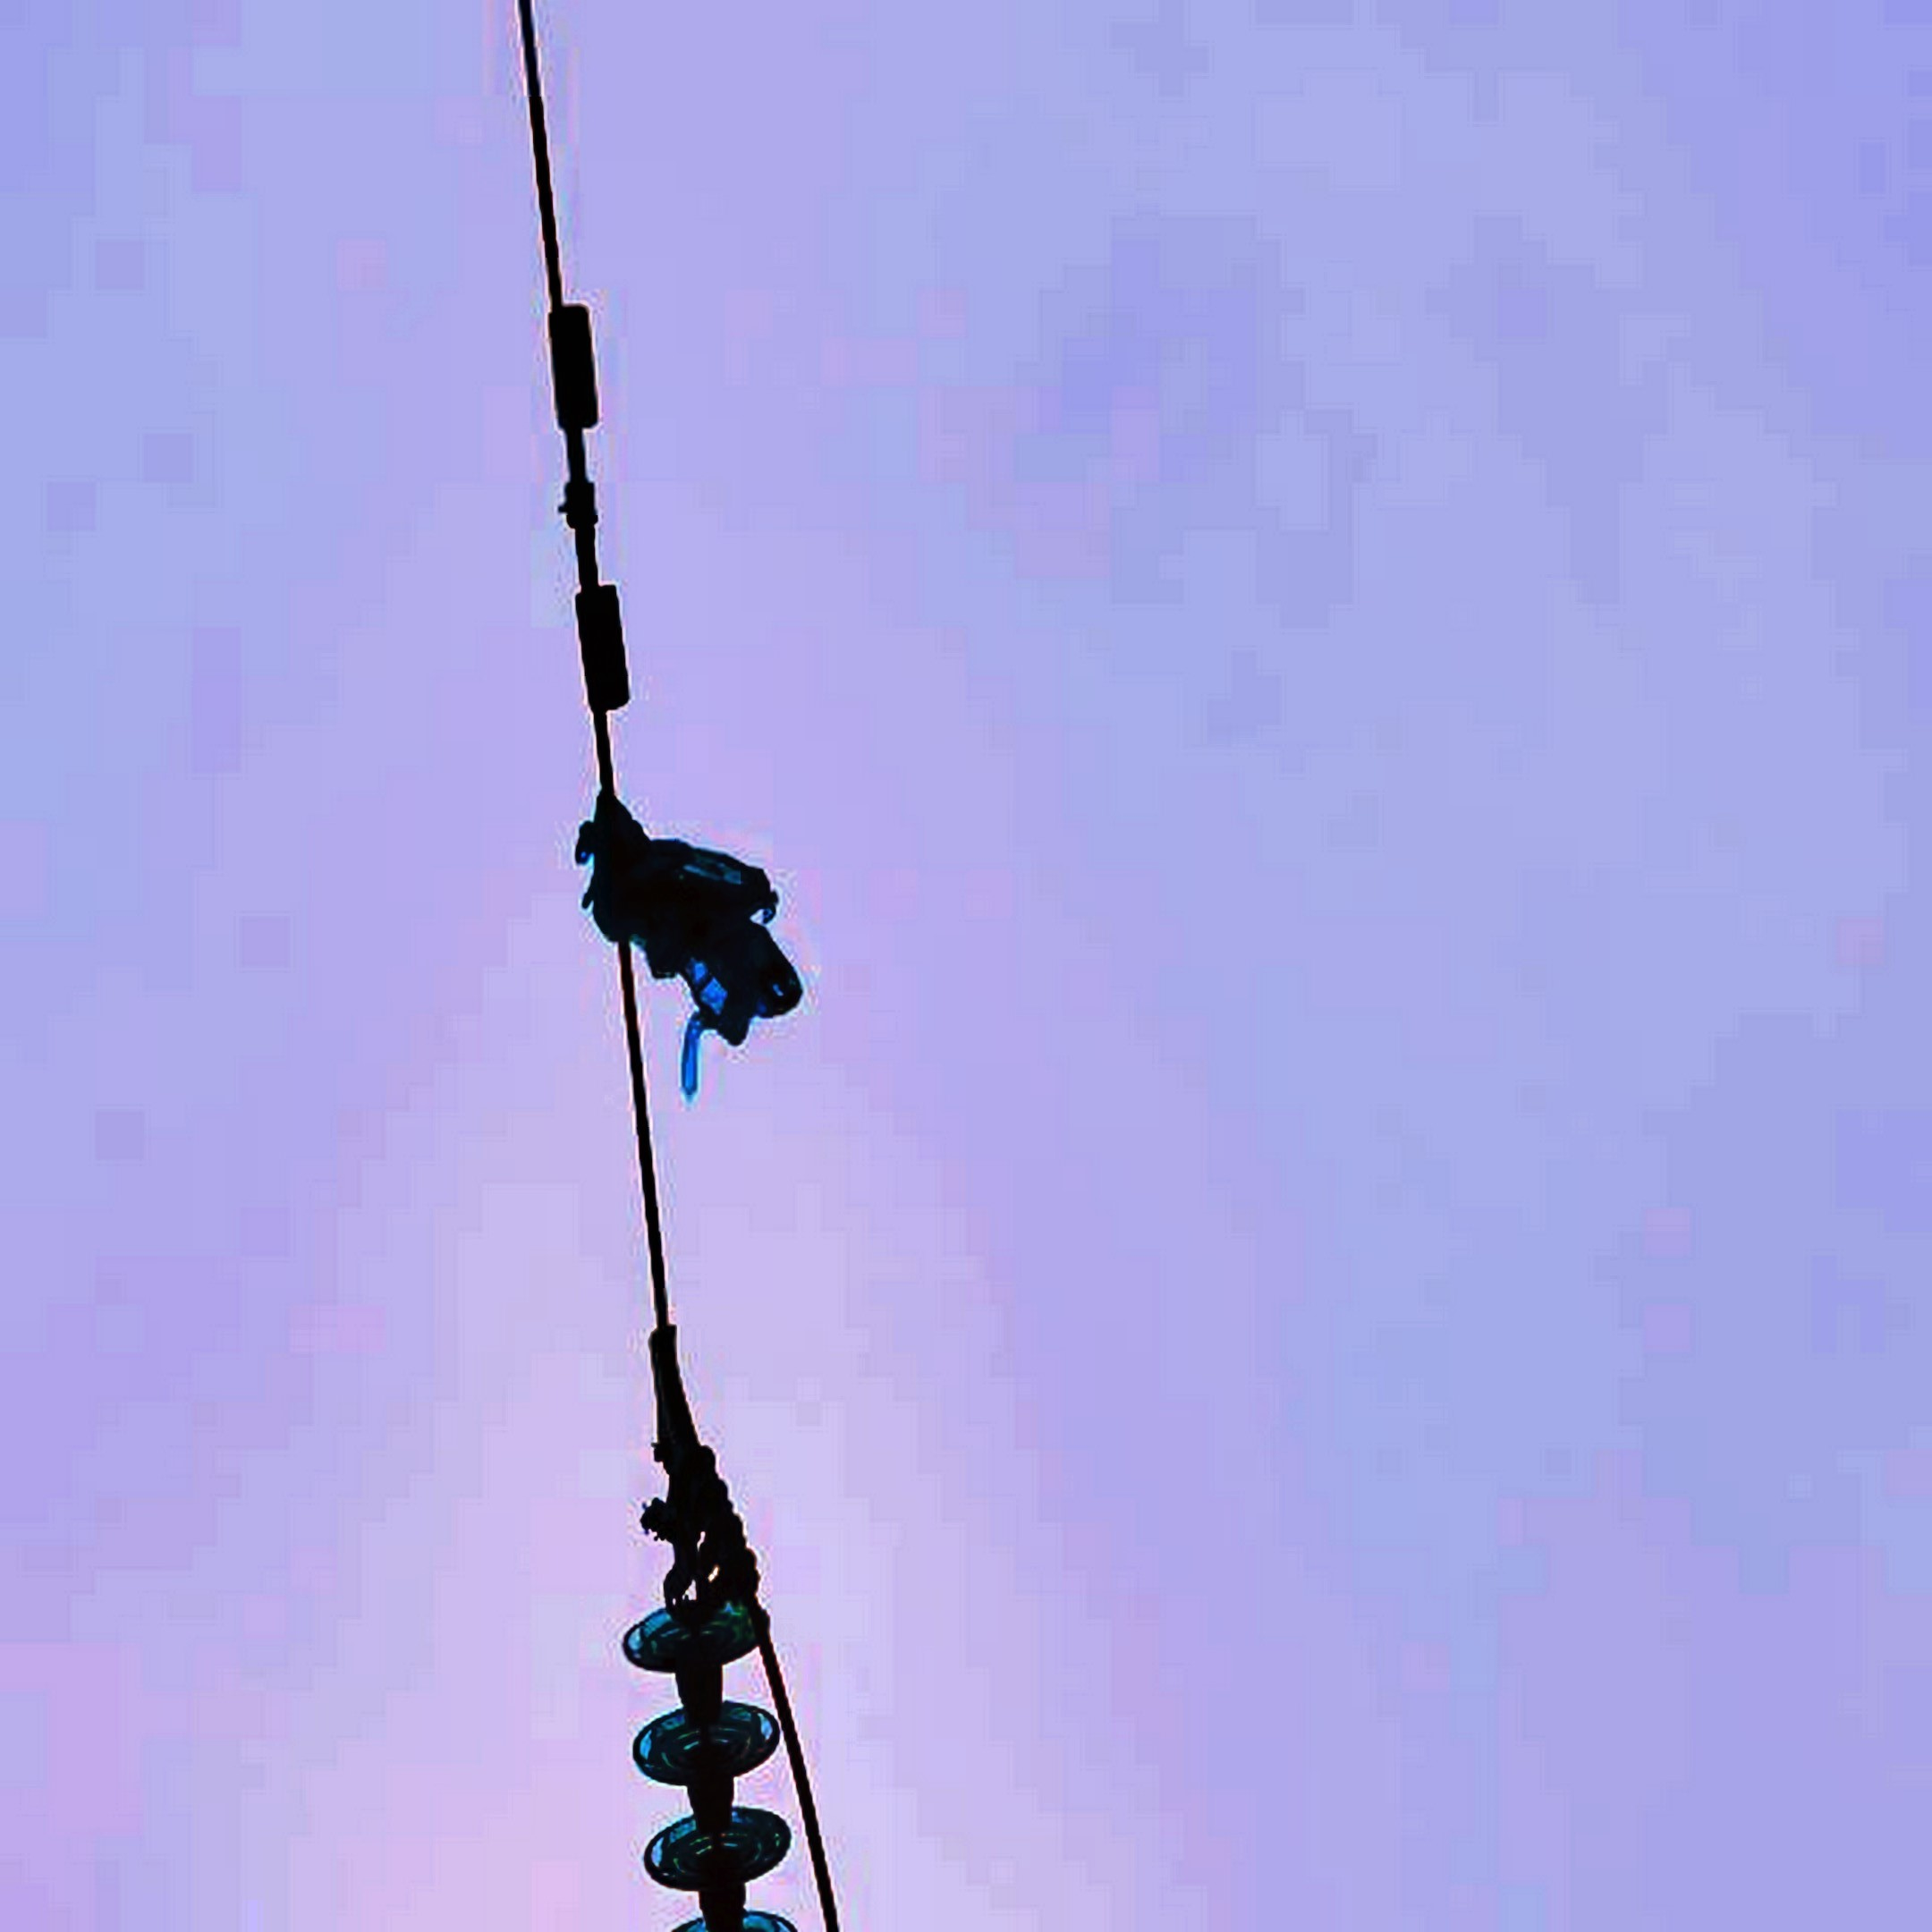wire foreign body: (522, 777, 856, 1062)
